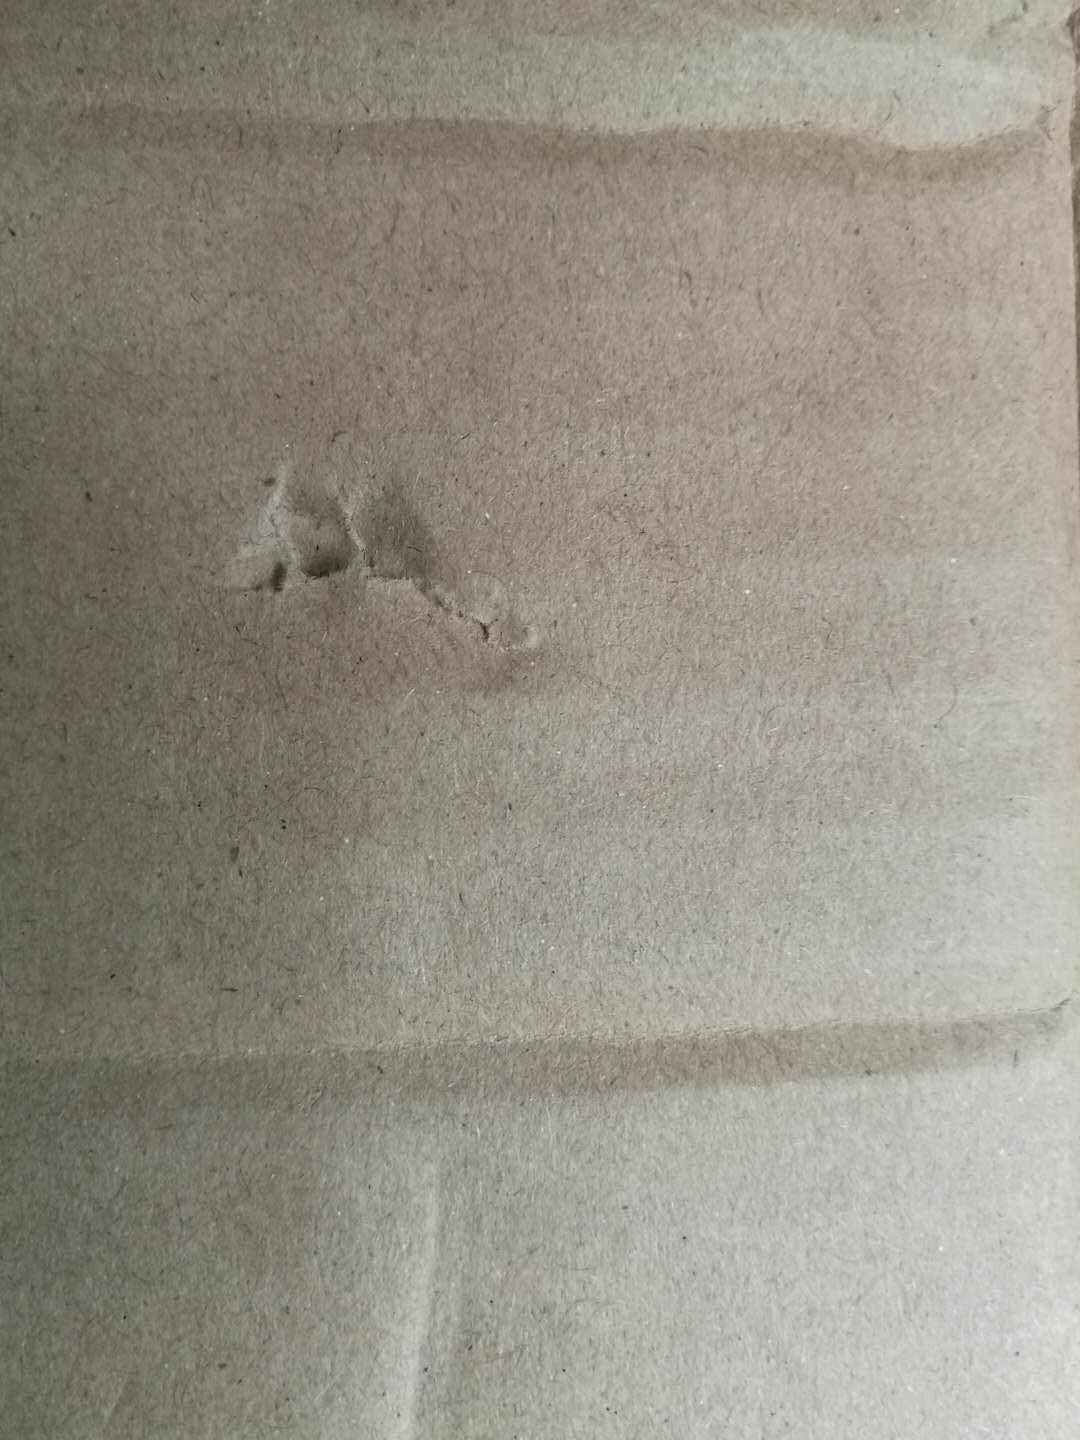defect: (3, 5, 1080, 244), (3, 976, 1080, 1154), (179, 404, 606, 732), (366, 1142, 522, 1440)
